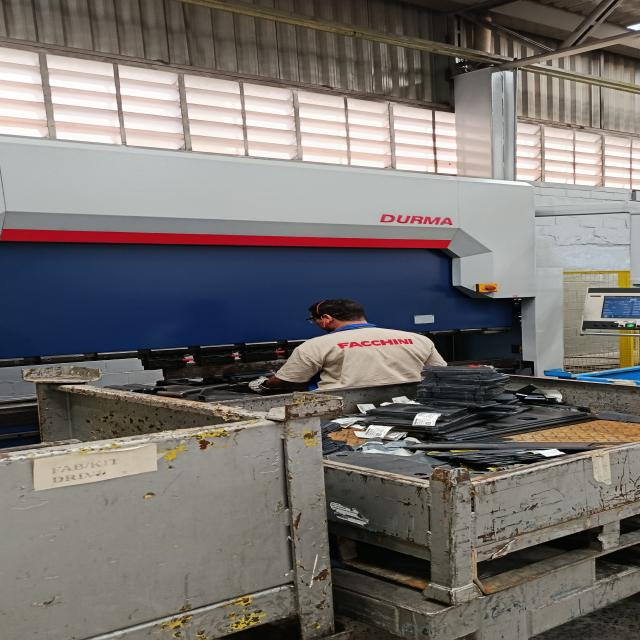oculos-epi: (307, 315, 322, 324)
